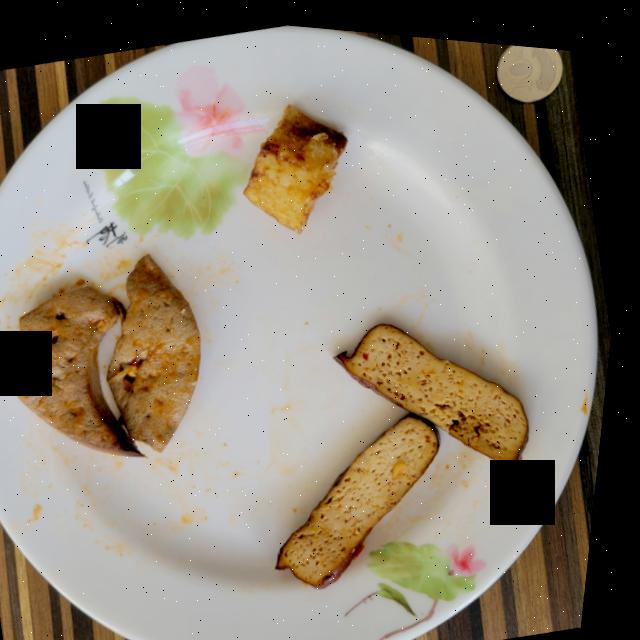coin: (496, 36, 563, 91)
firm tofu: (287, 315, 536, 580)
fried potato: (246, 98, 349, 226)
pig liver: (11, 251, 208, 452)
